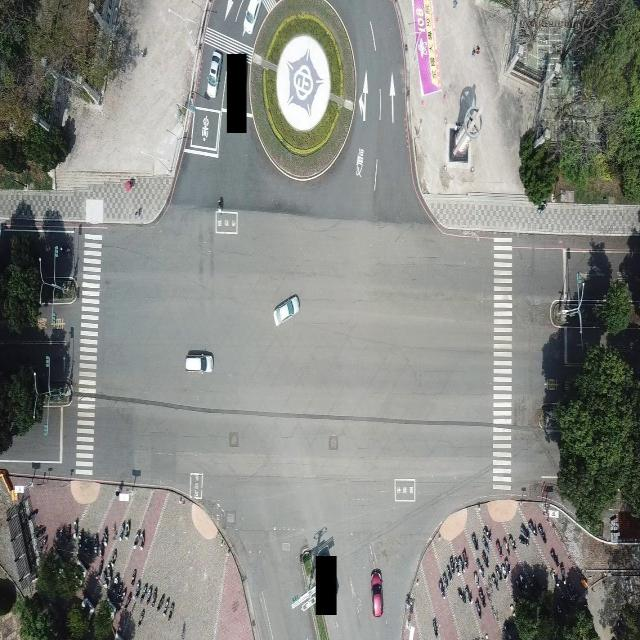car: (206, 50, 224, 100), (273, 292, 300, 325), (185, 347, 214, 374), (370, 567, 384, 617), (244, 0, 261, 32)
